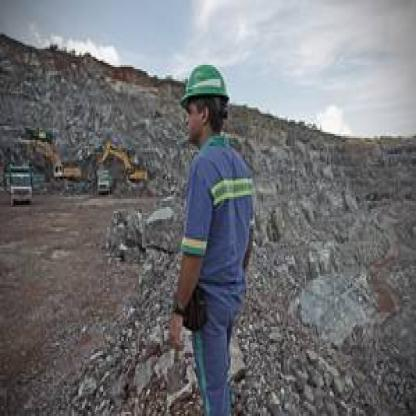person: (152, 49, 256, 412)
